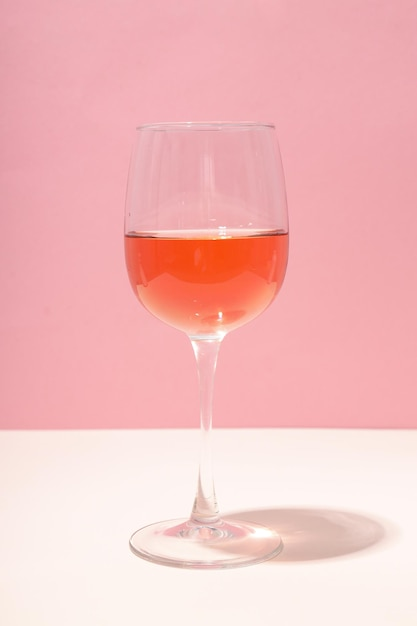alcohol: (117, 119, 292, 566)
